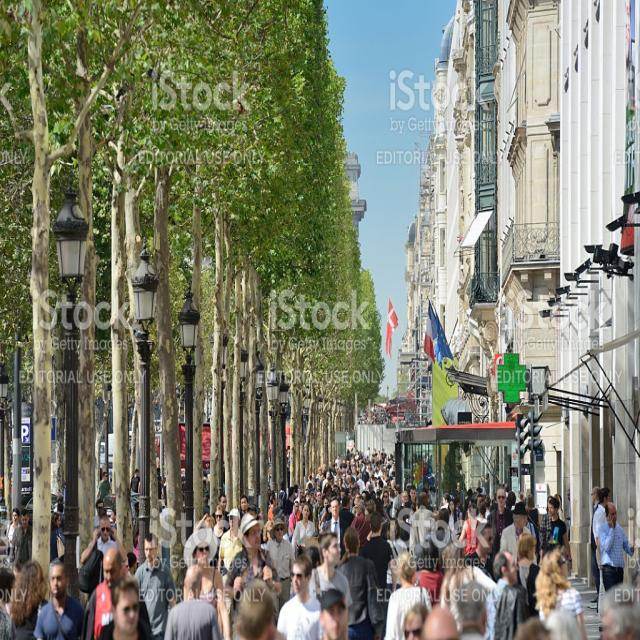body: (189, 444, 413, 539), (395, 575, 640, 639), (413, 463, 575, 533), (100, 464, 190, 572), (227, 569, 357, 640), (84, 545, 154, 640), (336, 524, 384, 640), (224, 512, 284, 598), (131, 530, 178, 639), (32, 555, 88, 639), (383, 549, 433, 640), (163, 564, 222, 640), (0, 557, 50, 640), (77, 514, 128, 595), (276, 554, 321, 640), (96, 576, 155, 640), (596, 500, 636, 594), (359, 511, 398, 607), (307, 531, 353, 609), (380, 516, 408, 639), (192, 539, 225, 639), (218, 507, 245, 628), (352, 391, 430, 429), (592, 486, 612, 634), (265, 517, 296, 611), (498, 499, 538, 567), (538, 496, 573, 570), (461, 521, 497, 584), (516, 532, 540, 618), (412, 491, 437, 571), (486, 486, 514, 556), (321, 496, 351, 561), (589, 484, 602, 606), (211, 503, 231, 577), (11, 507, 33, 572), (290, 501, 316, 554), (458, 502, 482, 558), (492, 549, 519, 590), (5, 505, 21, 562), (50, 510, 66, 563), (130, 468, 140, 521), (95, 470, 111, 502), (49, 498, 65, 526)
